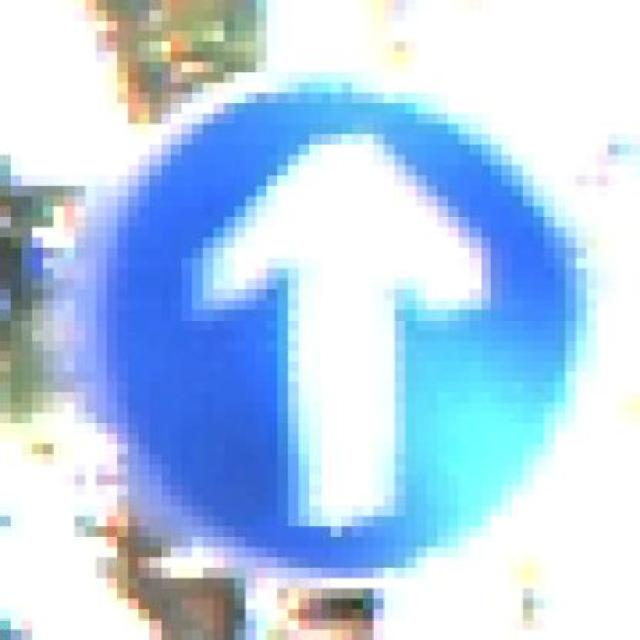Straight Ahead Only: (64, 82, 598, 600)
